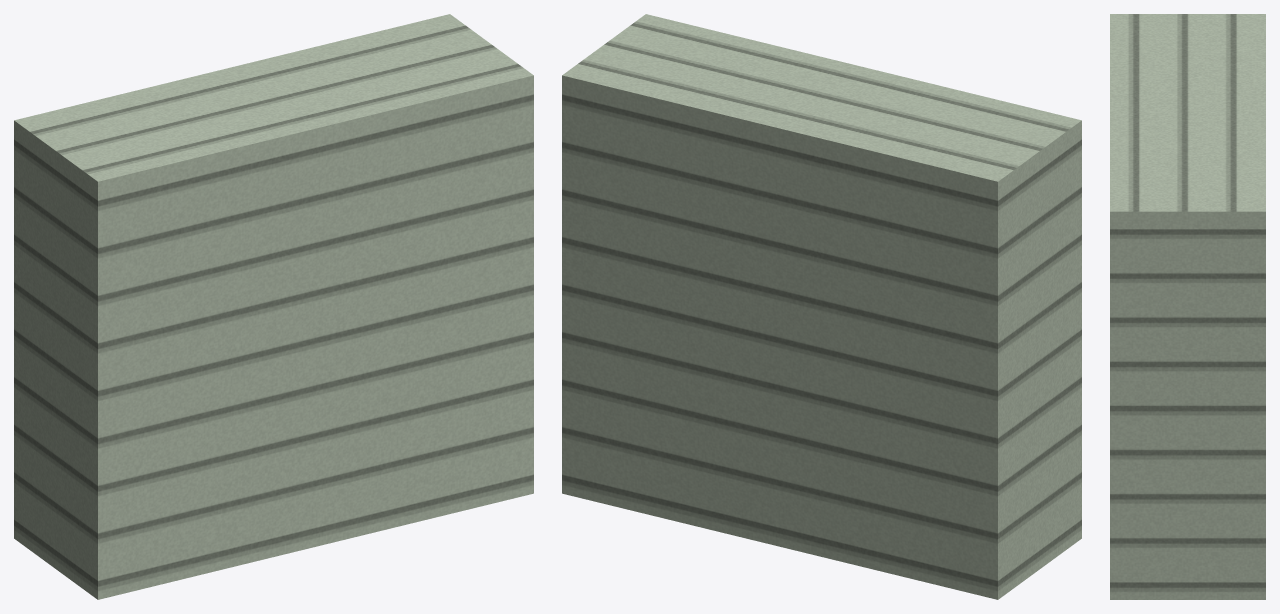
The model's file is standing_writing_counter.glb.
The picture shows the model from 3 angles, left to right: view 1: azimuth 30°, elevation 25°; view 2: azimuth 150°, elevation 25°; view 3: azimuth 270°, elevation 25°; orthographic projection. The views are drawn at different scales.
Parts seen in each view (by area): view 1: standing_writing_counter-col; view 2: standing_writing_counter-col; view 3: standing_writing_counter-col.
Part boxes in pixels (x1,y1,x2,y2): standing_writing_counter-col: (14,14,533,599); standing_writing_counter-col: (562,14,1081,599); standing_writing_counter-col: (1110,14,1265,599).
Size of the model in its own units: 1.2 by 1.1 by 0.4.
Materials: 1 (1 with a texture image).
